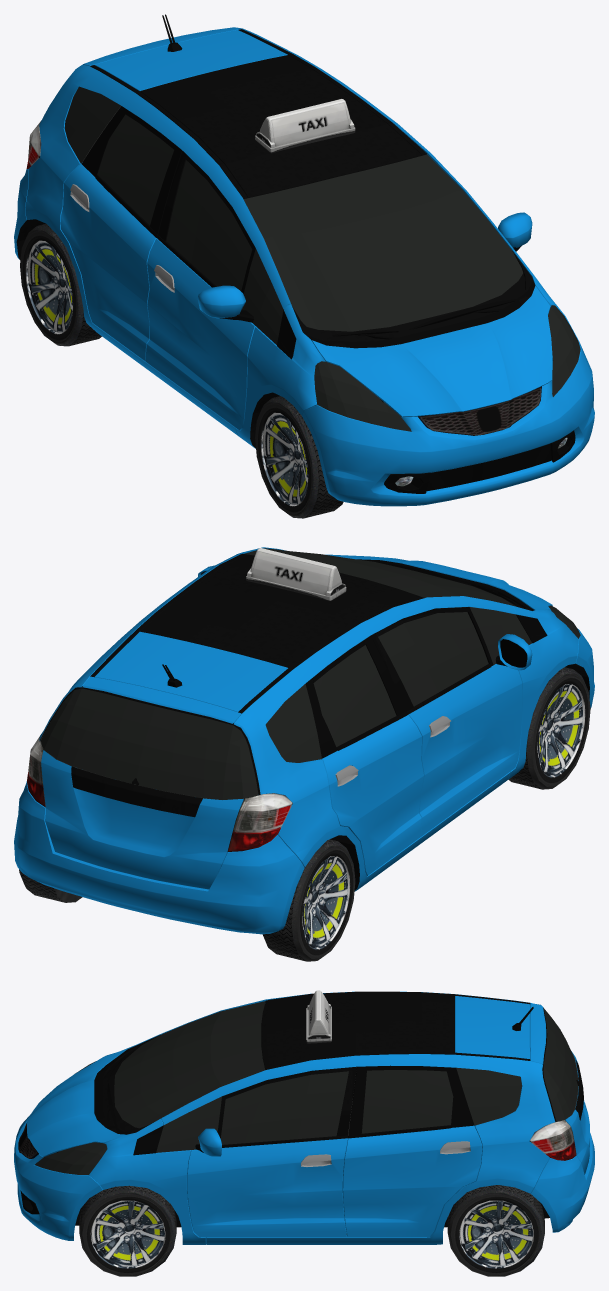
The model's file is Taxi_05_Honda Fit.fbx.
3 views of the same model, one above another, from view 1: azimuth 30°, elevation 25°; view 2: azimuth 150°, elevation 25°; view 3: azimuth 270°, elevation 25° (orthographic). The views are drawn at different scales.
Parts seen in each view (by area): view 1: polySurface17, polySurface15, polySurface7, Object005, FL_Wheel_LOD024, FL_Wheel_LOD026, top light003; view 2: polySurface17, polySurface15, polySurface7, Object005, FL_Wheel_LOD026, FL_Wheel_LOD024, top light003, fit025, fit030, FL_Wheel_LOD028; view 3: polySurface17, polySurface15, Object006, polySurface7, FL_Wheel_LOD028, FL_Wheel_LOD027, fit030, top light003.
Boxes of the visible parts, x1,y1,x2,y2 form: polySurface17: [14, 27, 594, 506]; polySurface15: [64, 86, 580, 431]; polySurface7: [16, 14, 575, 493]; Object005: [60, 106, 182, 360]; FL_Wheel_LOD024: [255, 396, 343, 518]; FL_Wheel_LOD026: [20, 223, 101, 346]; top light003: [255, 99, 355, 153]; polySurface17: [14, 547, 594, 934]; polySurface15: [40, 548, 580, 799]; polySurface7: [30, 553, 589, 890]; Object005: [305, 636, 423, 875]; FL_Wheel_LOD026: [262, 839, 355, 961]; FL_Wheel_LOD024: [508, 667, 590, 789]; top light003: [246, 548, 346, 600]; fit025: [227, 793, 292, 851]; fit030: [27, 736, 45, 807]; FL_Wheel_LOD028: [19, 869, 82, 902]; polySurface17: [14, 991, 594, 1244]; polySurface15: [35, 1001, 578, 1174]; Object006: [342, 1066, 482, 1236]; polySurface7: [18, 991, 583, 1227]; FL_Wheel_LOD028: [447, 1185, 544, 1276]; FL_Wheel_LOD027: [79, 1185, 176, 1276]; fit030: [529, 1120, 576, 1160]; top light003: [306, 990, 331, 1043].
Size of the model in its own units: 79.4 by 64.86 by 154.
